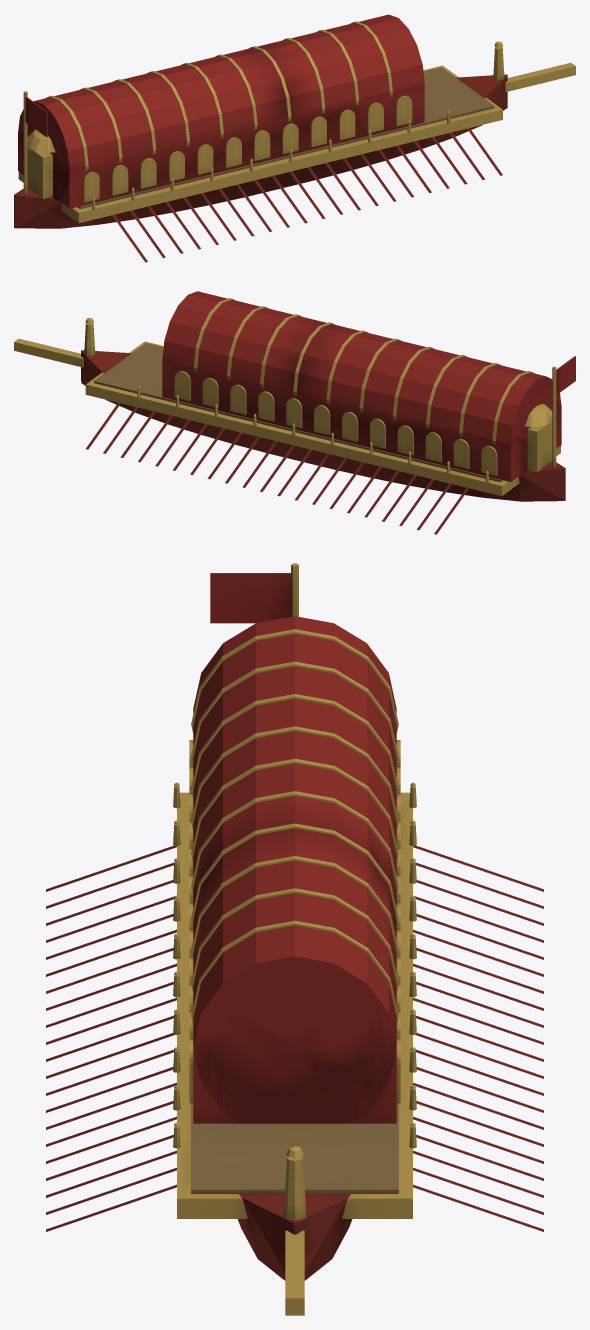
Rendered from bucintoro.glb.
3 views of the same model, one above another, from view 1: azimuth 30°, elevation 25°; view 2: azimuth 150°, elevation 25°; view 3: azimuth 270°, elevation 25° (orthographic). The views are drawn at different scales.
Parts seen in each view (by area): view 1: p1_canopy, p0_hull; view 2: p1_canopy, p0_hull; view 3: p1_canopy, p0_hull.
Boxes of the visible parts, <box> form: p1_canopy: <box>18,14,450,210</box>; p0_hull: <box>14,41,575,262</box>; p1_canopy: <box>137,291,575,483</box>; p0_hull: <box>14,318,565,534</box>; p1_canopy: <box>173,563,416,1148</box>; p0_hull: <box>46,792,543,1315</box>.
Bounding box in the file's own units: 39.7 × 9.4 × 15.6.
